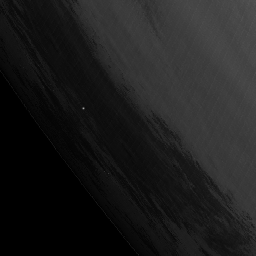Target: (81, 105, 86, 110)
